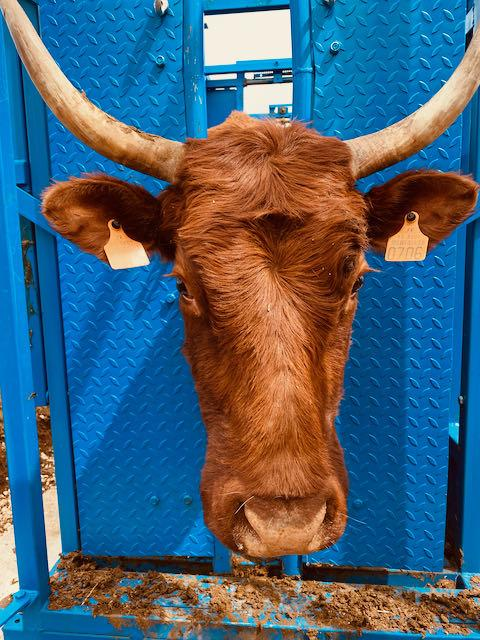muzzles: (219, 482, 347, 562)
